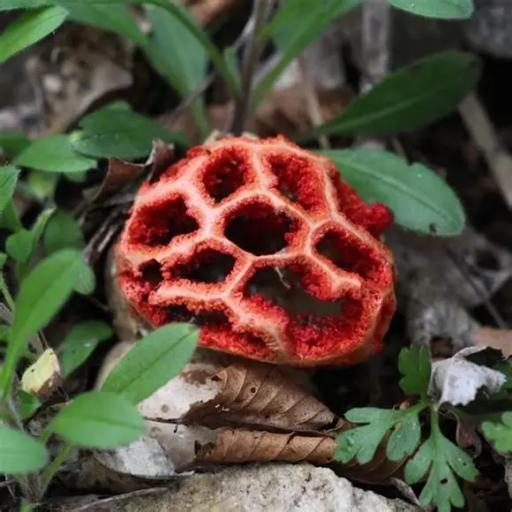mushroom: (92, 94, 438, 406)
